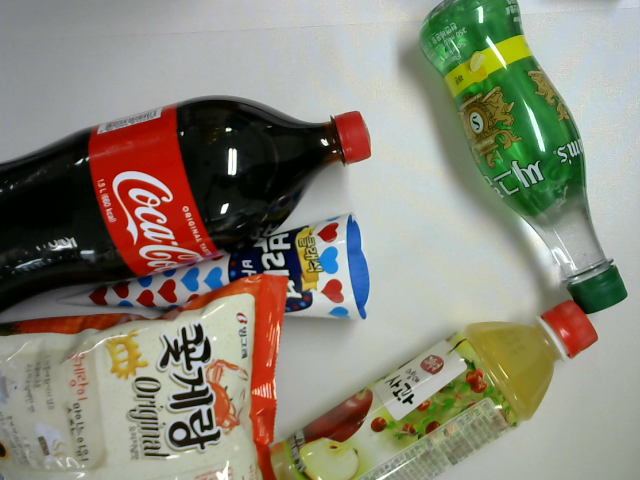Bravo_Cone_(Banila)_CVS: (49, 205, 383, 333)
Coca_Cola_1.5L: (1, 93, 379, 326)
Crabrang: (1, 267, 300, 477)
Morning_Apple_500ml: (247, 298, 605, 480)
Seagram_Lemon_Carbonated_Water: (410, 1, 634, 318)
